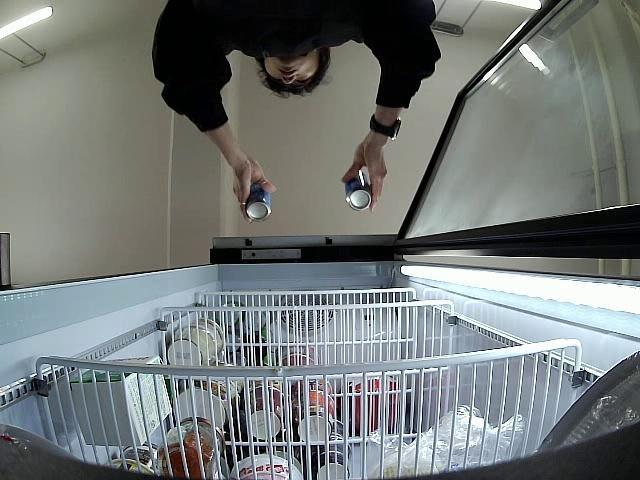15_letsbe: (346, 168, 372, 213), (244, 184, 273, 220)
